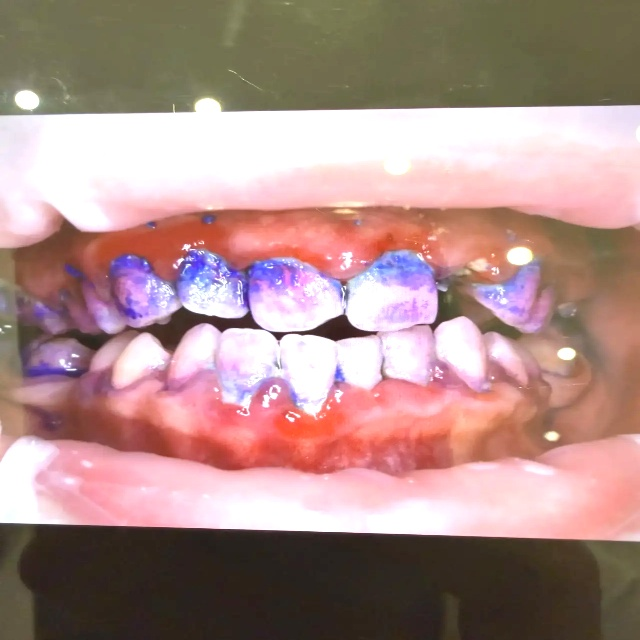plaque: (77, 249, 342, 328), (354, 252, 448, 382), (170, 354, 308, 403), (476, 263, 545, 331), (22, 342, 81, 386), (31, 303, 68, 332)
